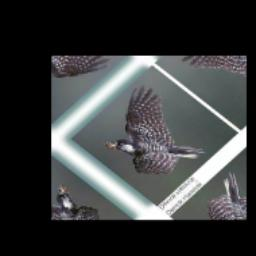Woodpecker: (80, 76, 221, 193)
